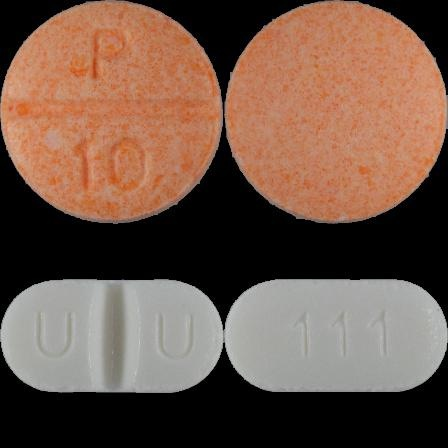64725-0110: (0, 0, 224, 224)
